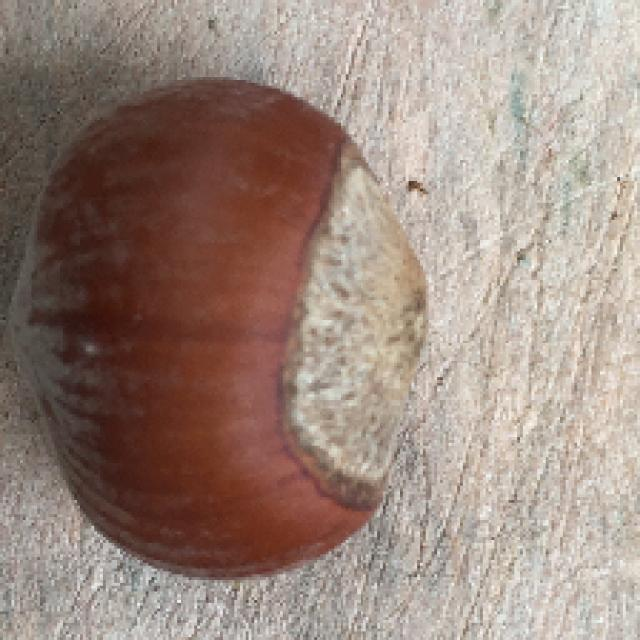QualityHazelnut: (8, 81, 431, 585)
